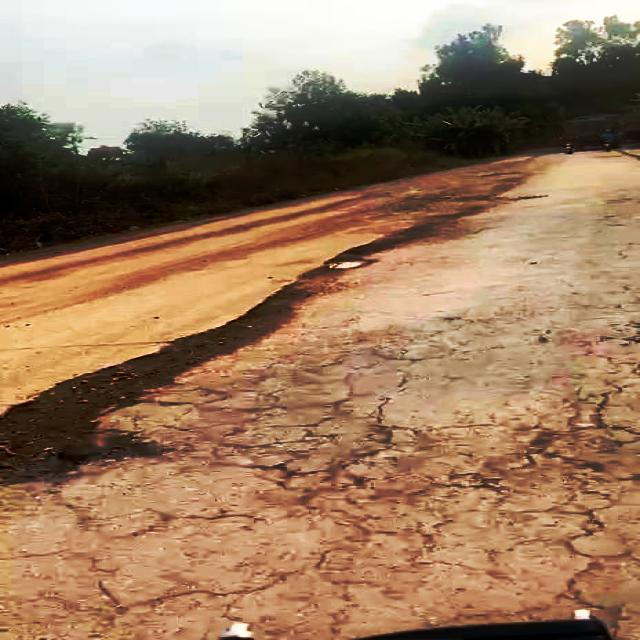pothole: (0, 329, 239, 482)
